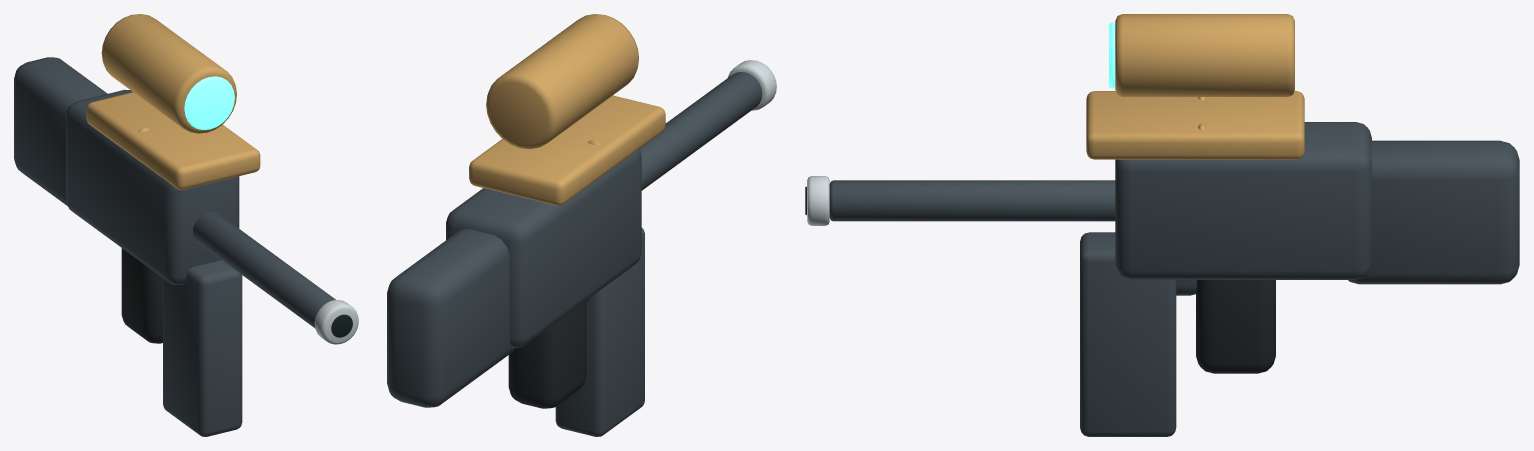
File: ap_rifle.t3.glb
3 renders of one model, left to right at view 1: azimuth 30°, elevation 25°; view 2: azimuth 150°, elevation 25°; view 3: azimuth 270°, elevation 25°, orthographic. The views are drawn at different scales.
Parts seen in each view (by area): view 1: weapon_right__forged_bluelead_steel__protected, weapon_right__worn_warm_brass__protected, weapon_right__charcoal_rubber__protected, weapon_right__mint_reticle__protected, weapon_right__honed_steel_edge__protected, weapon_right__eye_socket__protected; view 2: weapon_right__forged_bluelead_steel__protected, weapon_right__worn_warm_brass__protected, weapon_right__charcoal_rubber__protected, weapon_right__honed_steel_edge__protected; view 3: weapon_right__forged_bluelead_steel__protected, weapon_right__worn_warm_brass__protected, weapon_right__charcoal_rubber__protected, weapon_right__honed_steel_edge__protected.
Part boxes in pixels (left/top/right/bottom): weapon_right__forged_bluelead_steel__protected: left=14, top=57, right=335, bottom=436; weapon_right__worn_warm_brass__protected: left=86, top=14, right=260, bottom=189; weapon_right__charcoal_rubber__protected: left=121, top=248, right=162, bottom=343; weapon_right__mint_reticle__protected: left=184, top=76, right=234, bottom=129; weapon_right__honed_steel_edge__protected: left=314, top=300, right=358, bottom=344; weapon_right__eye_socket__protected: left=331, top=314, right=352, bottom=337; weapon_right__forged_bluelead_steel__protected: left=387, top=72, right=762, bottom=436; weapon_right__worn_warm_brass__protected: left=469, top=14, right=665, bottom=205; weapon_right__charcoal_rubber__protected: left=508, top=300, right=586, bottom=408; weapon_right__honed_steel_edge__protected: left=727, top=60, right=776, bottom=110; weapon_right__forged_bluelead_steel__protected: left=829, top=122, right=1519, bottom=436; weapon_right__worn_warm_brass__protected: left=1086, top=14, right=1304, bottom=159; weapon_right__charcoal_rubber__protected: left=1196, top=280, right=1275, bottom=373; weapon_right__honed_steel_edge__protected: left=807, top=176, right=829, bottom=225.
Size of the model in its own units: 0.175 by 0.705 by 1.11.
